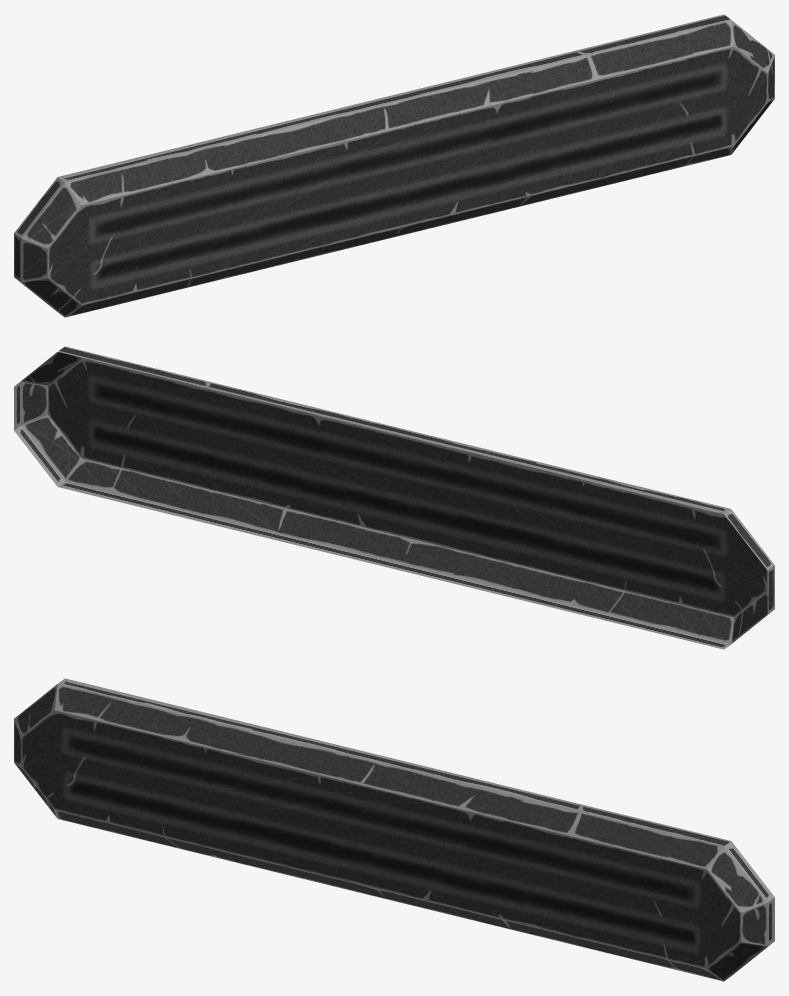
The model's file is boxlatch.FBX.
3 views of the same model, one above another, from view 1: azimuth 30°, elevation 25°; view 2: azimuth 150°, elevation 25°; view 3: azimuth 330°, elevation 25° (orthographic).
Parts seen in each view (by area): view 1: Latch; view 2: Latch; view 3: Latch.
Part boxes in pixels (box(x1,y1,x2,y2)): Latch: box(14, 14, 774, 317); Latch: box(14, 346, 774, 649); Latch: box(14, 678, 774, 981).
Size of the model in its own units: 8.91 by 1.53 by 0.3511.
